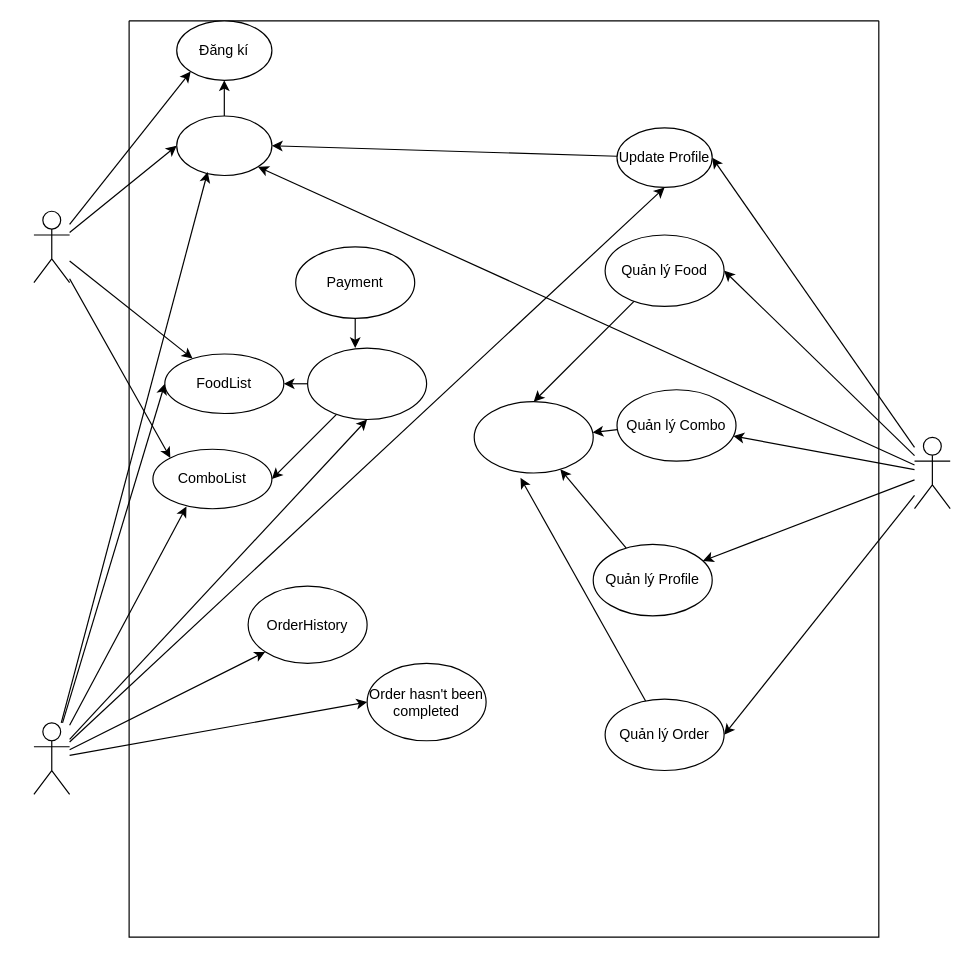
Image size: 977x958. Some labels were removed from this diagram. The box of each missing label's shape, as (x1, y1, x2, y2) in pixels:
Add to Cart: (306, 347, 427, 419)
Customer: (33, 722, 70, 794)
Guest: (33, 210, 70, 283)
Quản lý: (913, 436, 950, 509)
Thêm, sửa, xem, xoá(mềm): (473, 400, 593, 473)
Đăng nhập: (176, 115, 272, 176)
